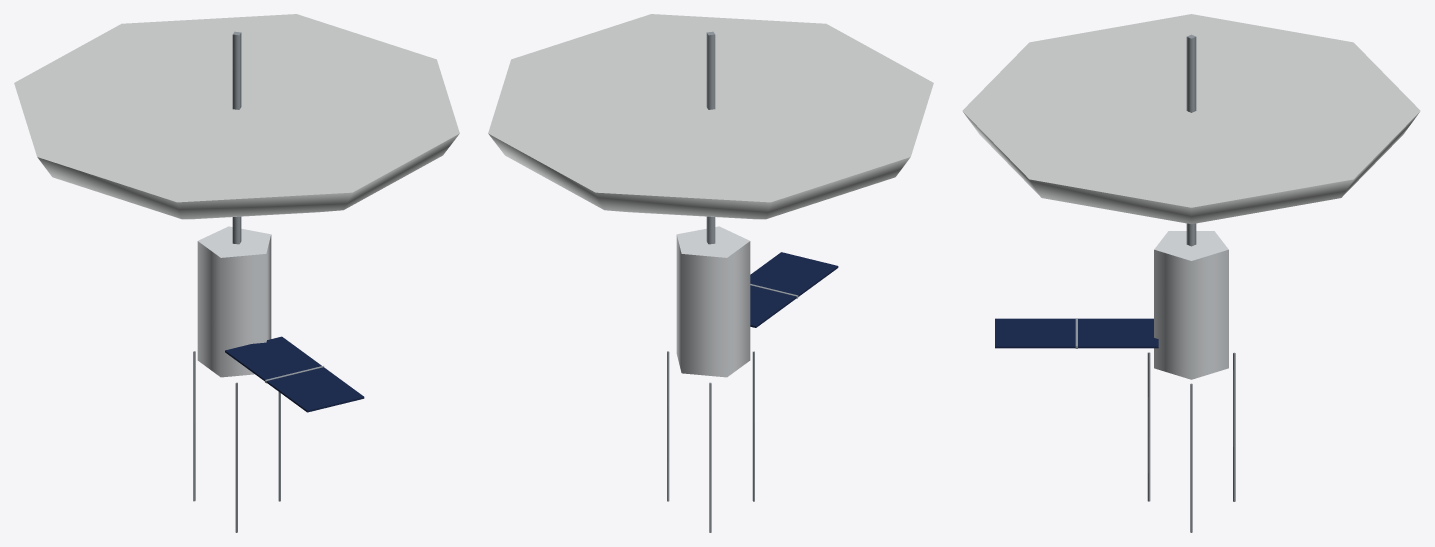
File: space_orbital_radar_t2_lod1.glb
3 views of the same model, side by side, from view 1: azimuth 30°, elevation 25°; view 2: azimuth 150°, elevation 25°; view 3: azimuth 270°, elevation 25° (orthographic).
Visible parts, largest first — view 1: dish, body, solar_0; view 2: dish, body, solar_0; view 3: dish, body, solar_0.
Part boxes in pixels (<box>): dish: <box>14,14,459,244</box>; body: <box>193,226,280,532</box>; solar_0: <box>225,336,364,412</box>; dish: <box>488,14,933,244</box>; body: <box>667,226,754,532</box>; solar_0: <box>750,252,838,327</box>; dish: <box>962,14,1420,246</box>; body: <box>1147,231,1235,532</box>; solar_0: <box>995,318,1158,348</box>.
Size of the model in its own units: 14 by 16 by 14.
